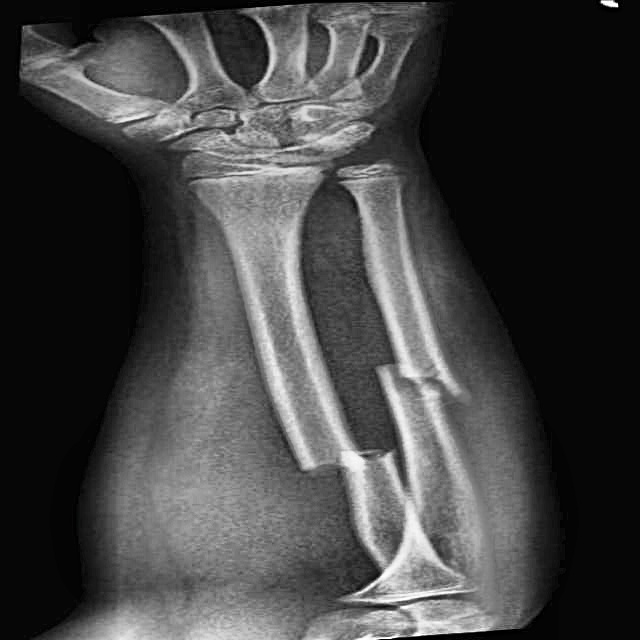Oblique Displaced: (336, 336, 510, 423)
Transverse: (253, 429, 426, 493)
